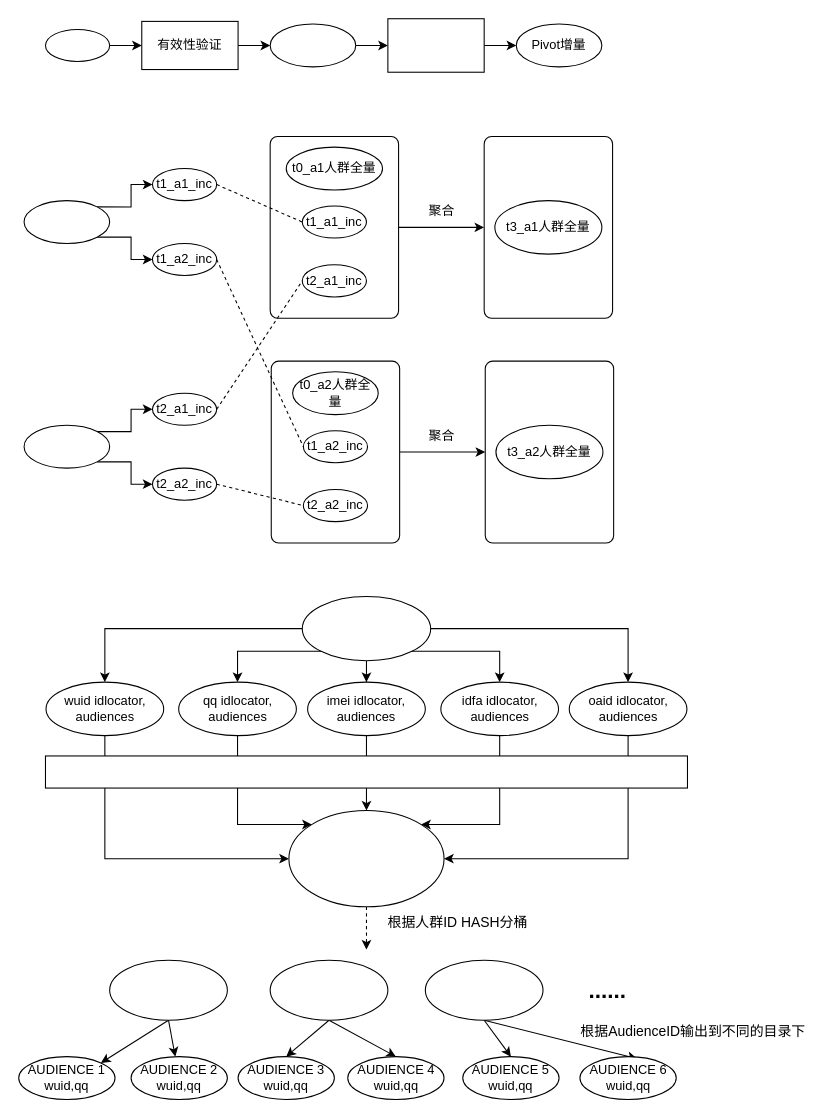
The diagram is 834 pixels wide and 1118 high, and some of its shapes have lost their labels. The shapes that lost their labels are listed below. From the top down, each one's centre as x and y in pixels, then its label:
At point (77, 45): "原始文件".
At point (312, 45): "有效原始增量".
At point (435, 45): "Pivot增量生成".
At point (66, 221): "t1 Pivot增量".
At point (66, 446): "t2 Pivot增量".
At point (366, 628): "原始全量DMP数据".
At point (365, 771): "IDMapping -> QQ/WUID".
At point (366, 858): "wuid,qq,audiences".
At point (168, 989): "BKT1 wuid,qq,audiences".
At point (328, 989): "BKT2 wuid,qq,audiences".
At point (483, 989): "BKT3 wuid,qq,audiences".
